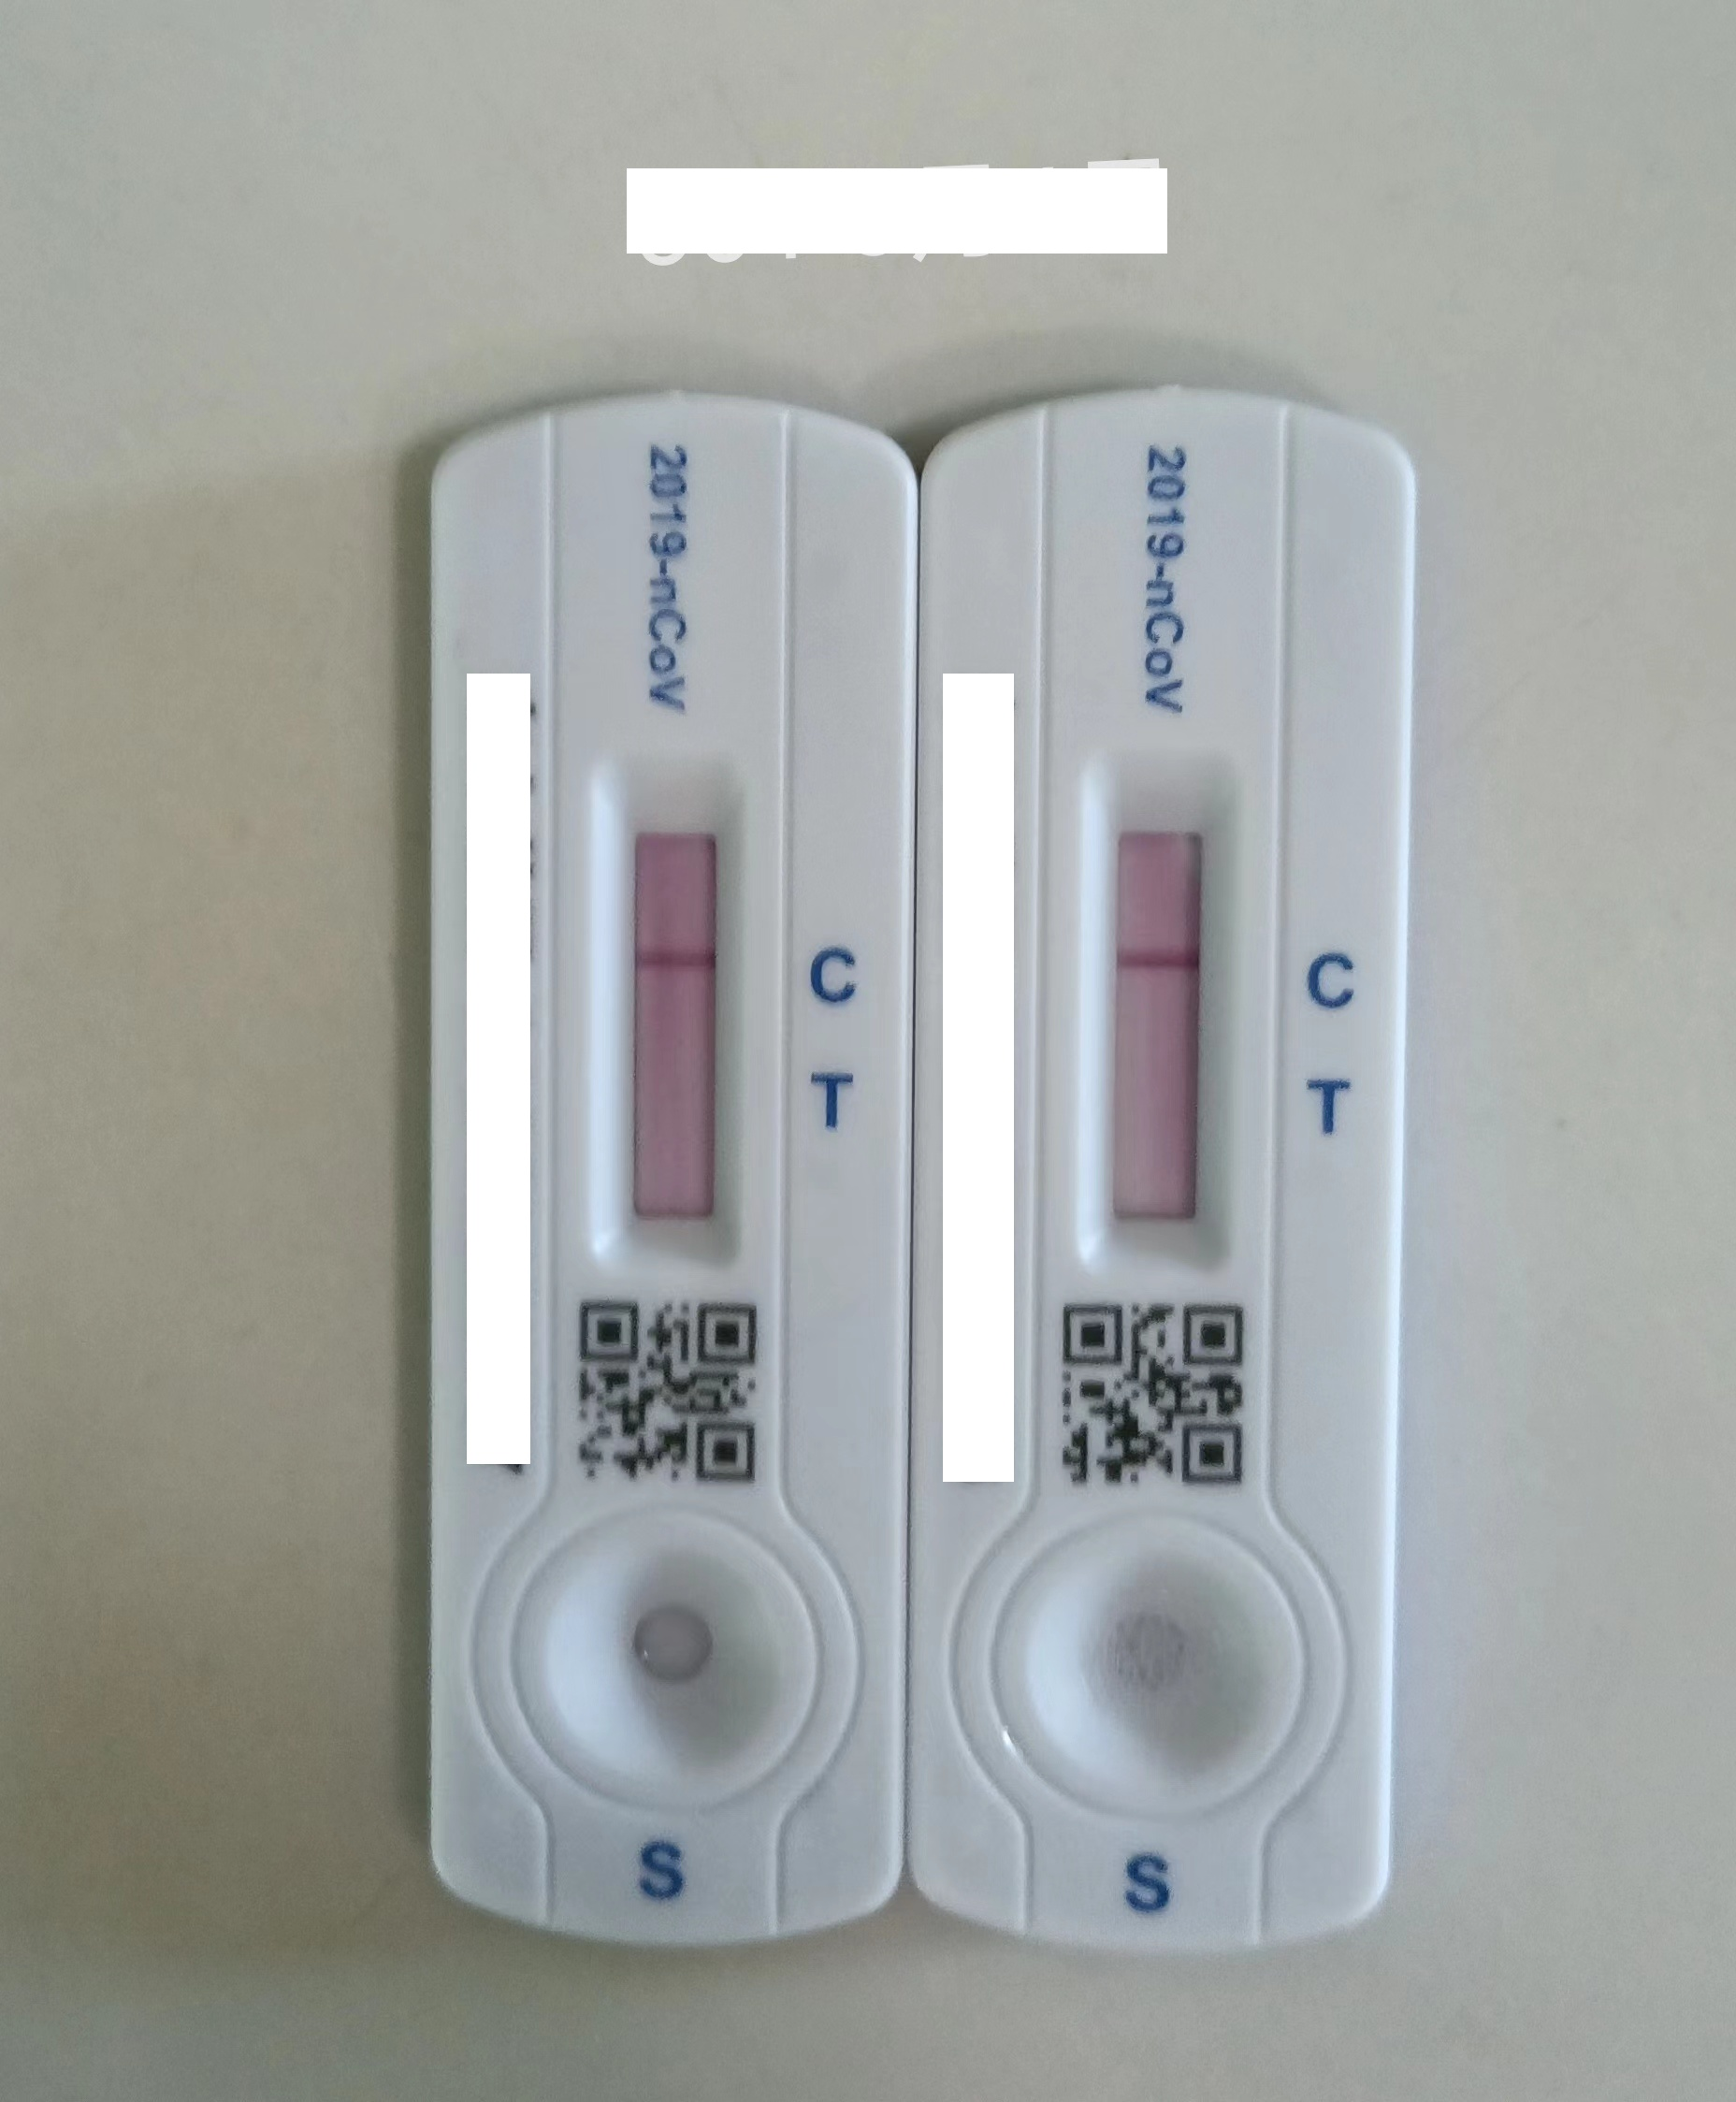negative: (1088, 752, 1224, 1290), (615, 773, 732, 1278)
